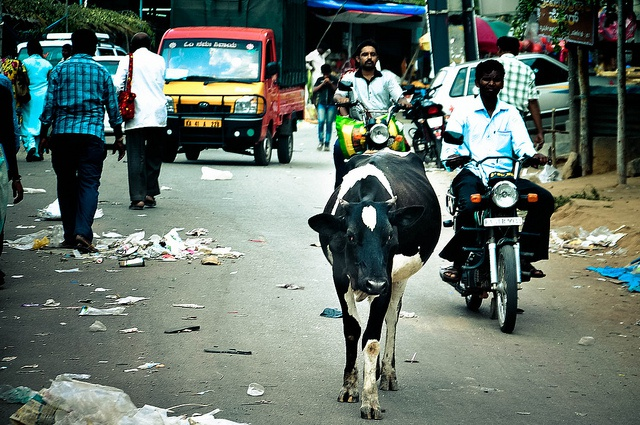non-vehicle: (439, 130, 552, 333), (334, 81, 414, 151), (391, 83, 447, 167)
